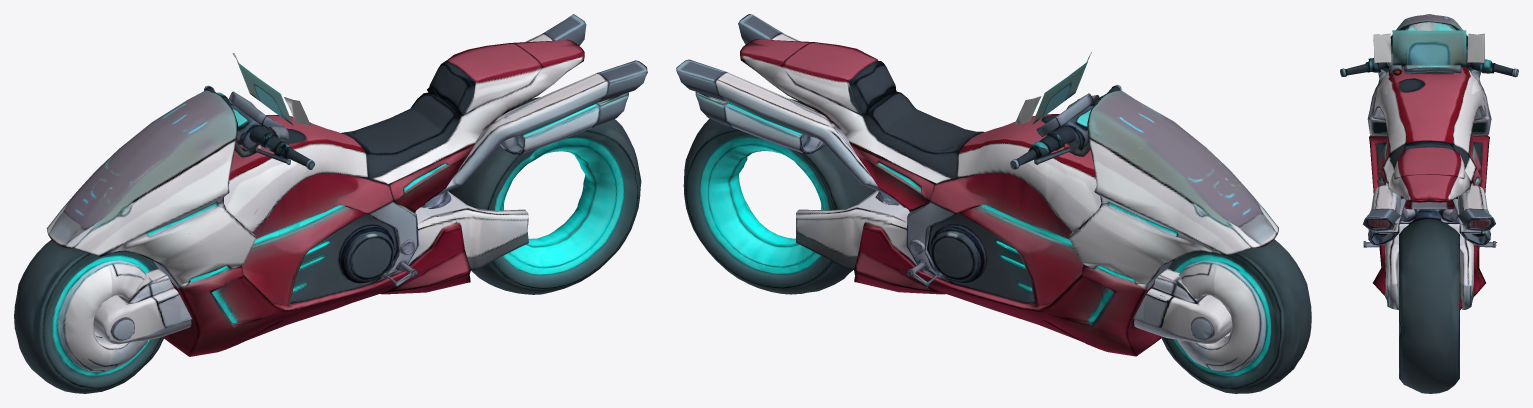
File: runner_a.glb
3 views of the same model, side by side, from view 1: azimuth 30°, elevation 25°; view 2: azimuth 150°, elevation 25°; view 3: azimuth 270°, elevation 25° (orthographic). The views are drawn at different scales.
Visible parts, largest first — view 1: geometry_0; view 2: geometry_0; view 3: geometry_0.
Boxes of the visible parts, x1,y1,x2,y2 form: geometry_0: (14, 14, 647, 393); geometry_0: (676, 14, 1311, 393); geometry_0: (1340, 14, 1518, 393).
Bounding box in the file's own units: 0.9536 × 0.4131 × 0.2817.
Materials: 1 (1 with a texture image).
